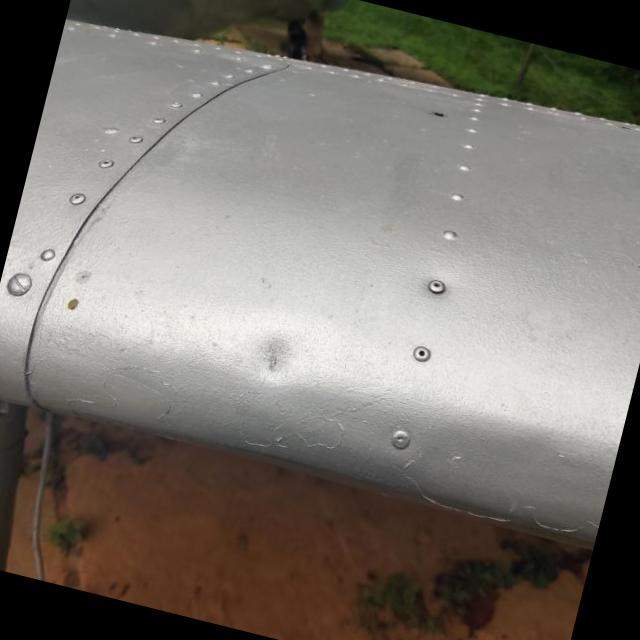Dent: (220, 314, 326, 427)
